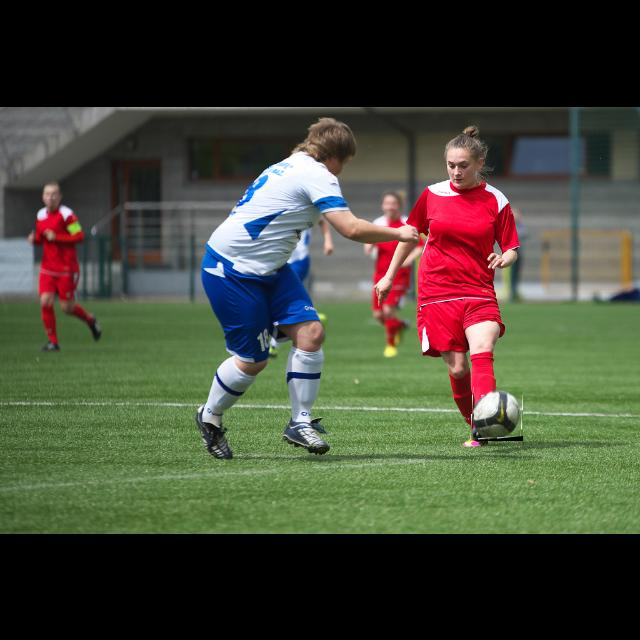Football: (471, 387, 523, 441)
